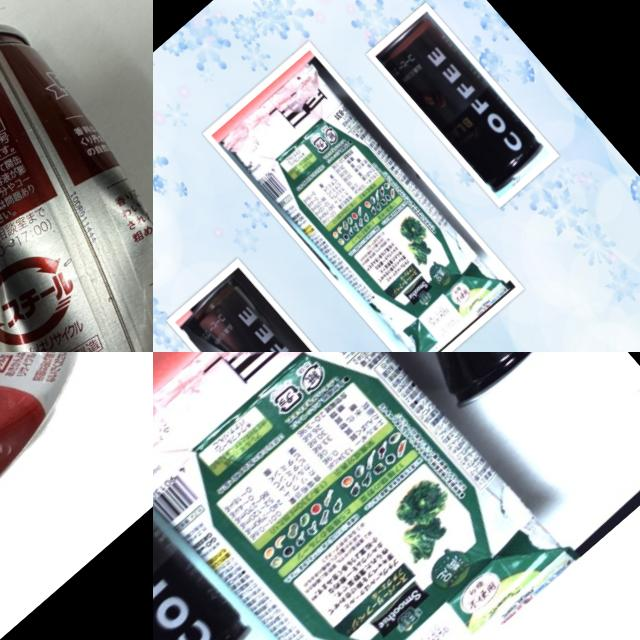Aluminium Foil: (153, 352, 584, 640), (207, 51, 512, 352)
Can: (0, 0, 153, 352), (376, 10, 547, 194), (0, 352, 125, 590), (153, 449, 254, 640), (310, 352, 582, 418), (170, 266, 361, 352)
